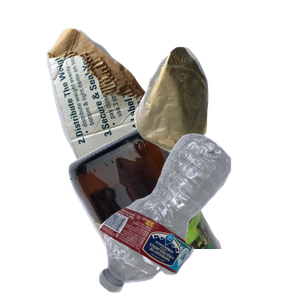cardboard: (44, 26, 209, 186)
glass: (66, 120, 300, 300)
plastic: (96, 131, 300, 300)
trash: (131, 44, 300, 189)
